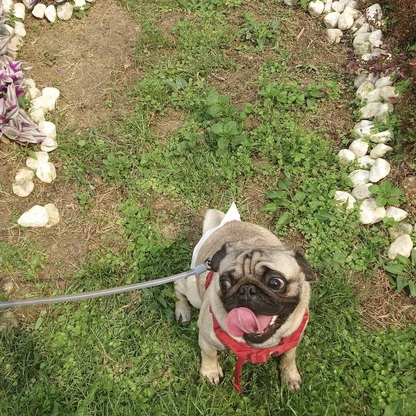Pug: (170, 202, 319, 396)
